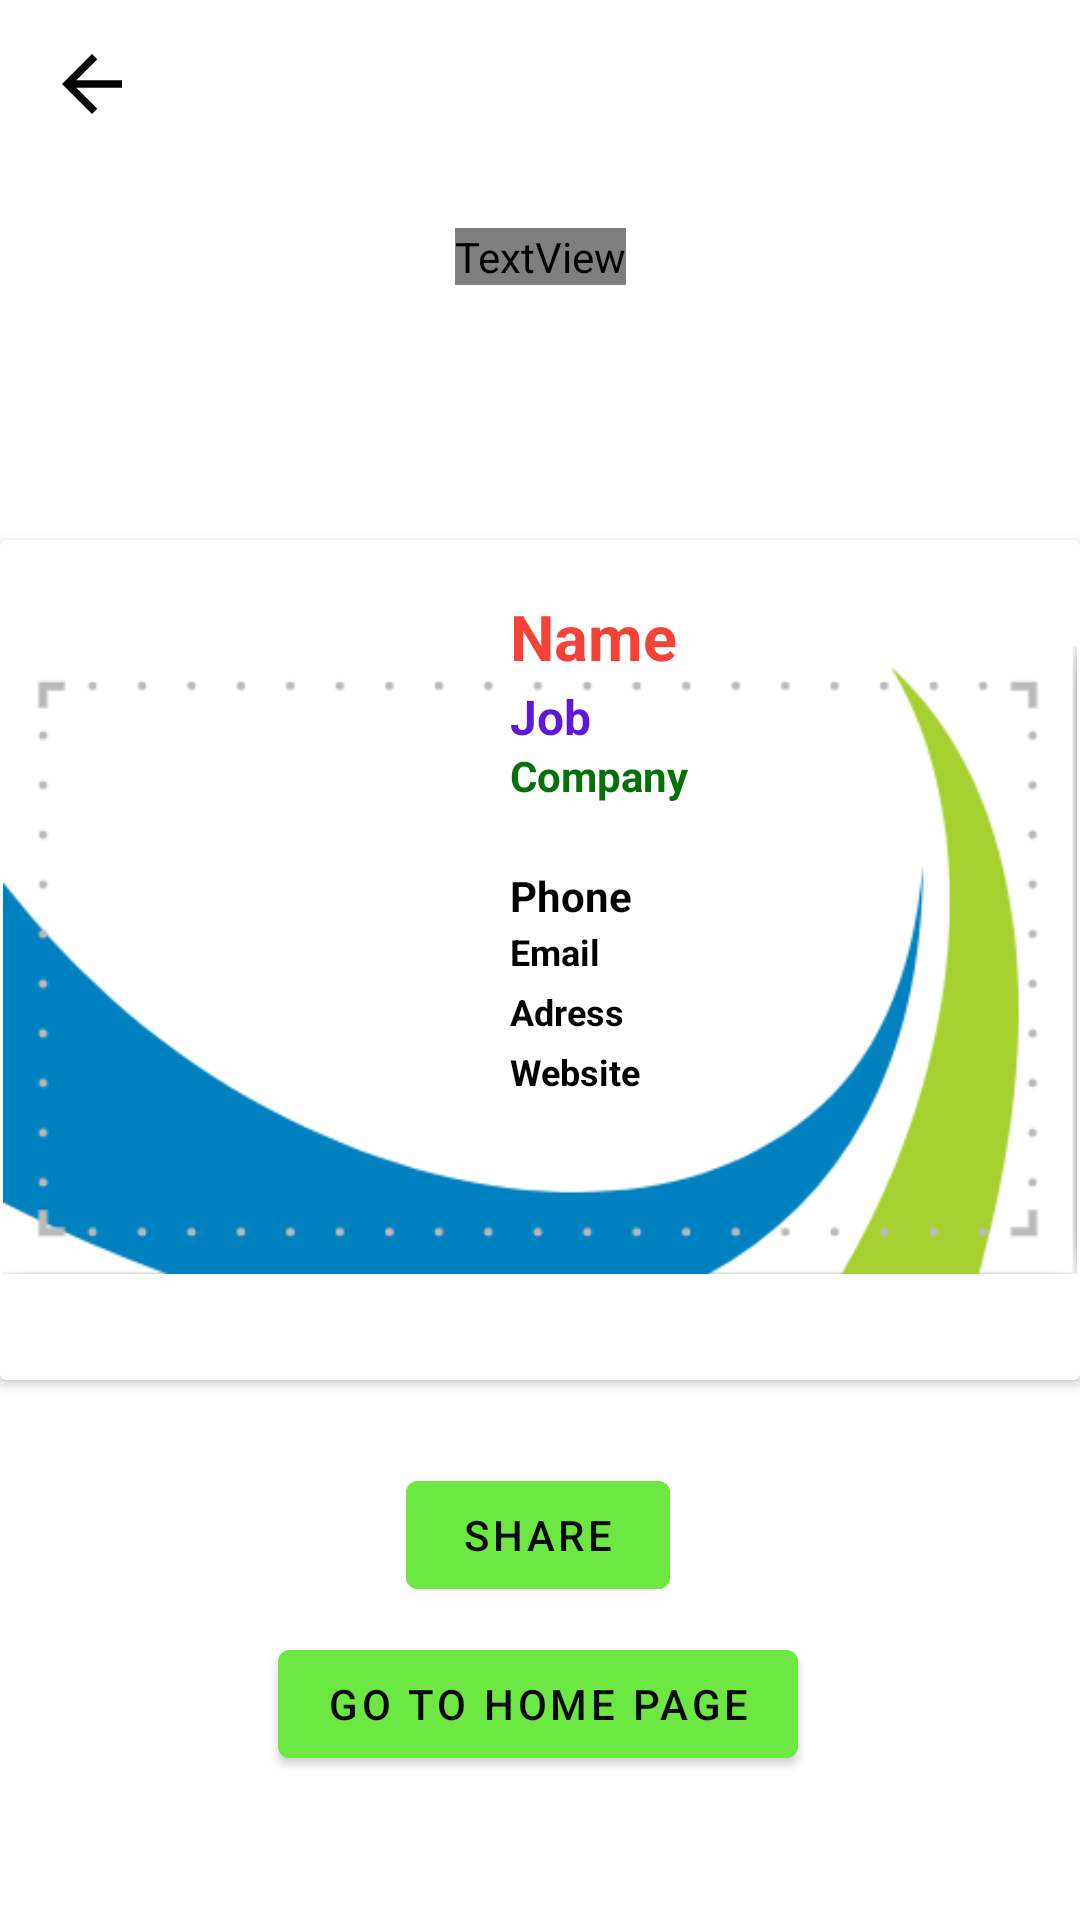

Named icons in this screenshot (1080*1920) and their bounding boxes, [left=x1, top=y1, right=x2, bottom=y2]:
back arrow: [left=62, top=54, right=122, bottom=114]
